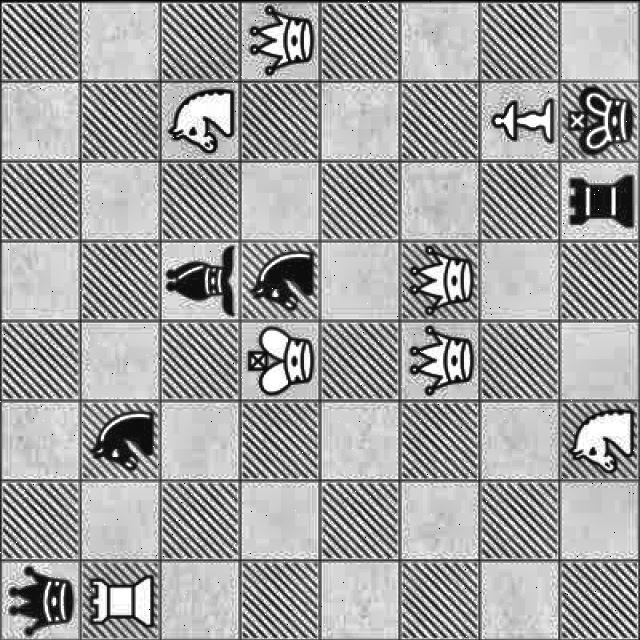Black Knight: (246, 247, 318, 313), (88, 406, 154, 476)
black bishop: (161, 244, 240, 316)
black king: (561, 84, 640, 158)
black queen: (4, 562, 76, 634)
black rook: (564, 166, 636, 230)
white king: (244, 324, 320, 394)
white pawn: (488, 95, 556, 153)
white queen: (246, 4, 320, 77), (403, 324, 477, 396), (404, 242, 474, 317)
white rook: (83, 566, 157, 634)
whiteknight: (566, 406, 640, 476), (168, 86, 238, 156)
